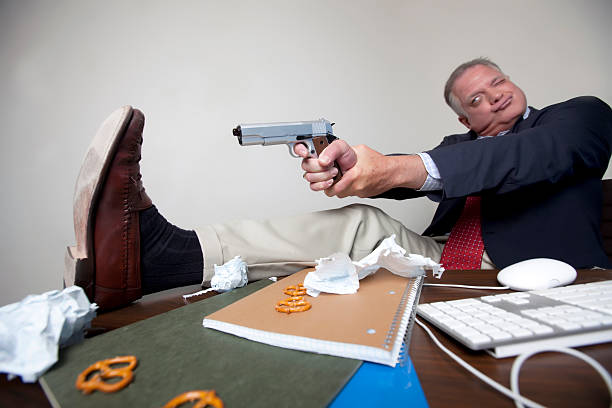gun: (231, 117, 342, 181)
